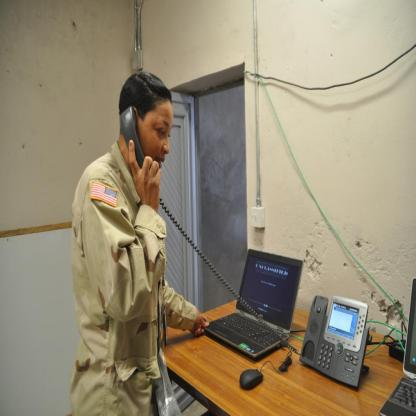board: (193, 255, 307, 365), (380, 277, 416, 416)
